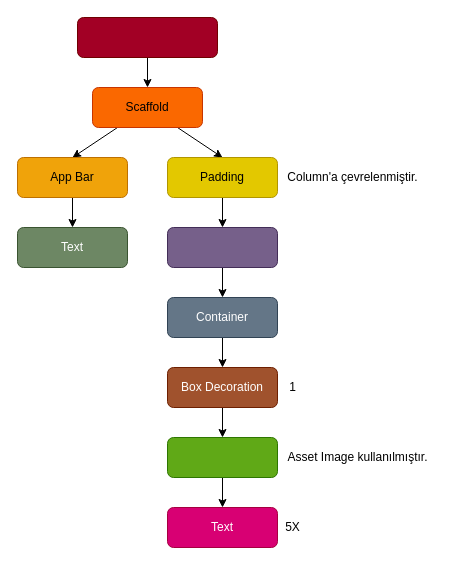
This 455x565 diagram has some shape labels left out. The shapes that lost their labels are listed below. From the top down, each one's centre as x and y in pixels, then its label:
pixel 147 37: Shopping Detail Page
pixel 222 247: Column
pixel 222 457: İmage
